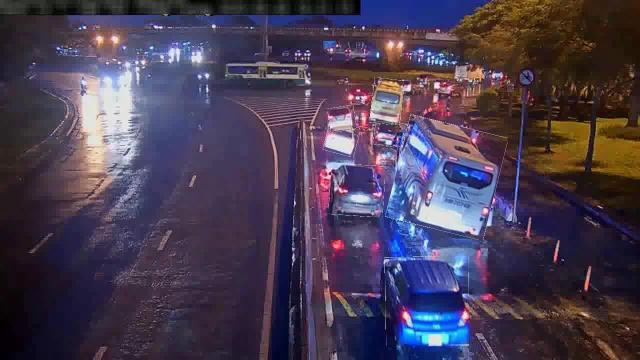Bus: (392, 119, 502, 235), (371, 78, 403, 126)
Car: (385, 256, 469, 346), (329, 164, 385, 216), (325, 122, 359, 156), (374, 121, 404, 147), (328, 106, 356, 132)
